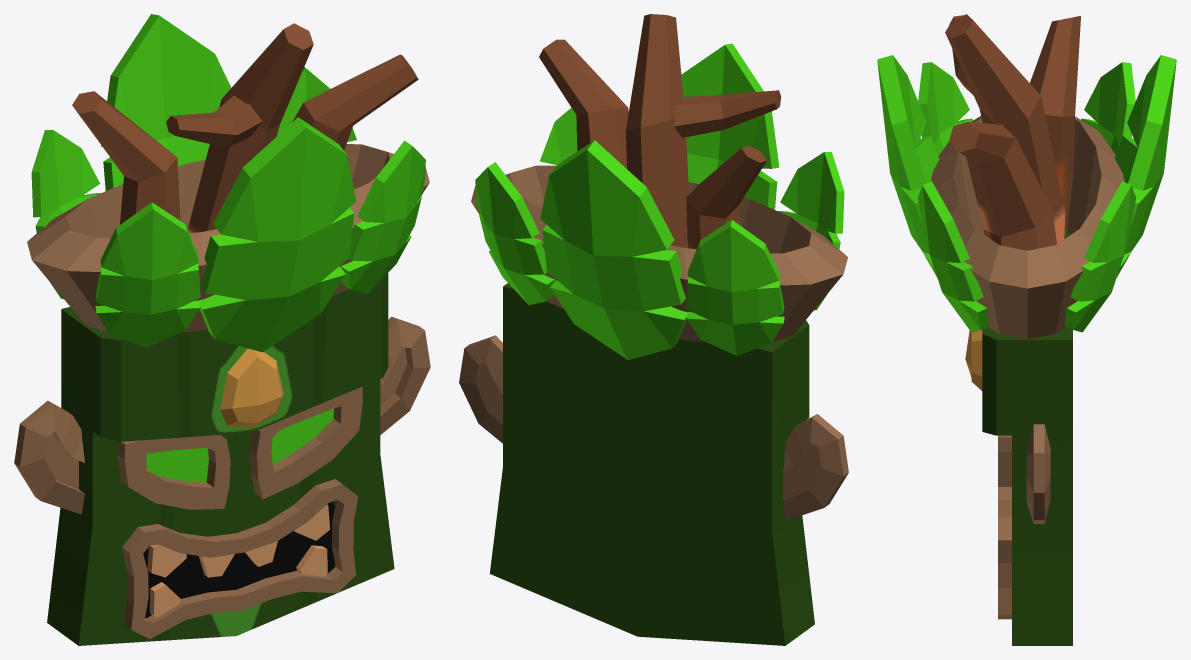
The model's file is Mask 02.fbx.
3 renders of one model, left to right at view 1: azimuth 30°, elevation 25°; view 2: azimuth 150°, elevation 25°; view 3: azimuth 270°, elevation 25°, orthographic. The views are drawn at different scales.
Visible parts, largest first — view 1: Mask 01; view 2: Mask 01; view 3: Mask 01.
Part boxes in pixels (x1,y1,x2,y2): Mask 01: [14, 14, 430, 645]; Mask 01: [459, 14, 848, 645]; Mask 01: [877, 14, 1176, 645].
Bounding box in the file's own units: 80.25 × 115 × 52.53.
Materials: 1 (1 with a texture image).
